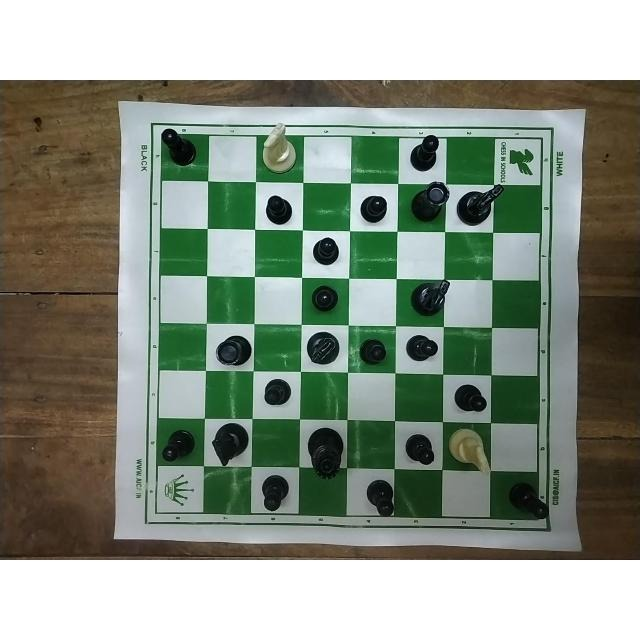black-knight: (456, 182, 508, 228), (207, 422, 249, 468), (302, 328, 343, 368), (409, 279, 449, 316)
black-pawn: (505, 480, 552, 520), (162, 125, 202, 170), (402, 426, 442, 468), (359, 476, 395, 520), (447, 382, 491, 416), (160, 426, 196, 465), (259, 191, 298, 227), (405, 133, 439, 173), (355, 191, 391, 227), (262, 471, 292, 513), (305, 280, 341, 312), (401, 333, 438, 363), (261, 376, 295, 408), (311, 232, 339, 268), (358, 335, 388, 367)
black-queen: (307, 423, 347, 481)
black-rook: (400, 180, 452, 229), (211, 328, 253, 372)
white-knight: (448, 427, 496, 477), (257, 122, 297, 173)
